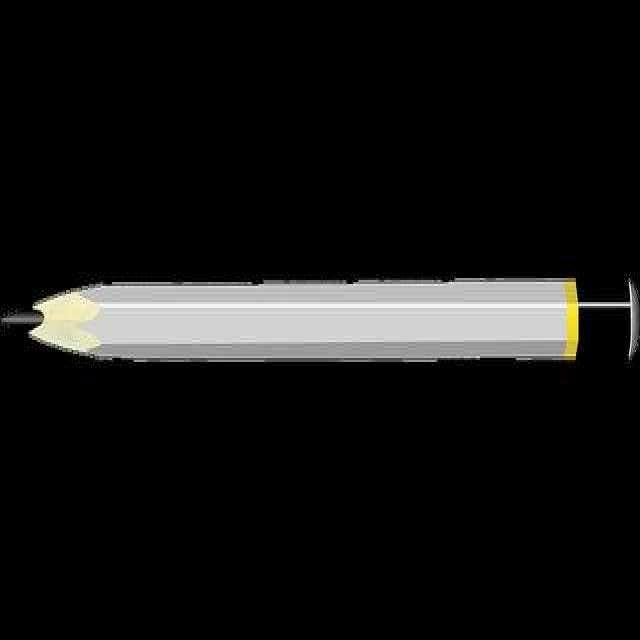pencil: (0, 242, 639, 395)
